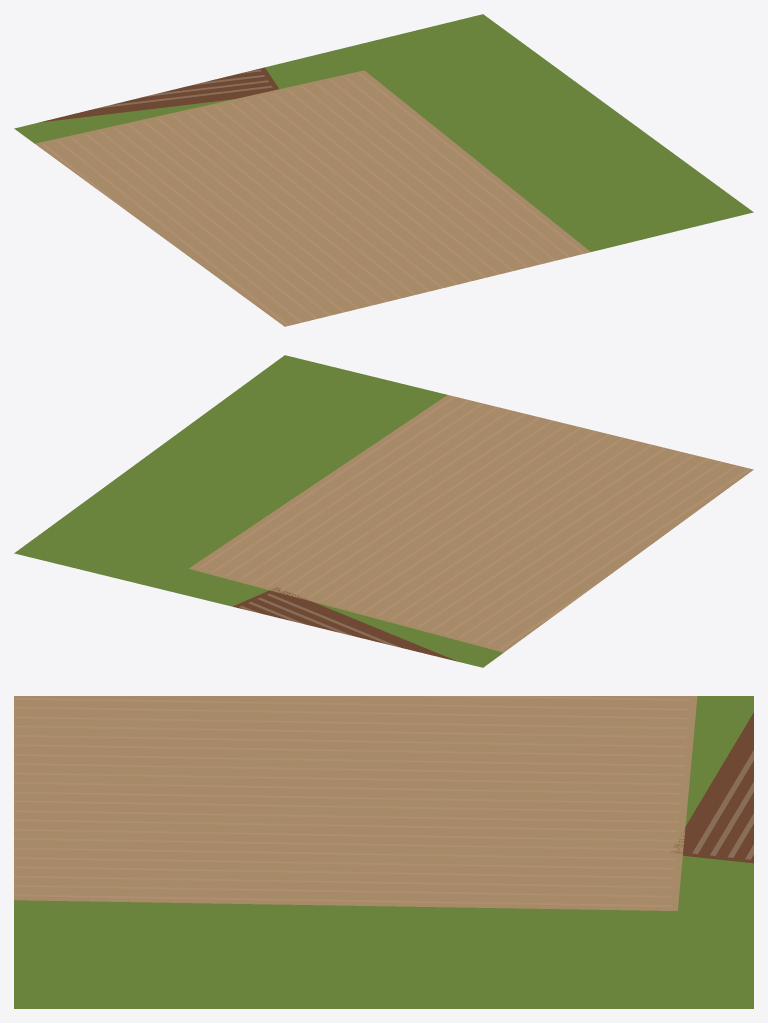
File: crossing-11-2.glb
3 views of the same model, one above another, from view 1: azimuth 30°, elevation 25°; view 2: azimuth 150°, elevation 25°; view 3: azimuth 270°, elevation 25° (orthographic). The views are drawn at different scales.
Visible parts, largest first — view 1: crossing-11-2; view 2: crossing-11-2; view 3: crossing-11-2.
Boxes of the visible parts, <box> form: crossing-11-2: <box>14,14,753,326</box>; crossing-11-2: <box>14,355,753,667</box>; crossing-11-2: <box>14,696,753,1008</box>.
Size of the model in its own units: 100 by 0.0064 by 100.
